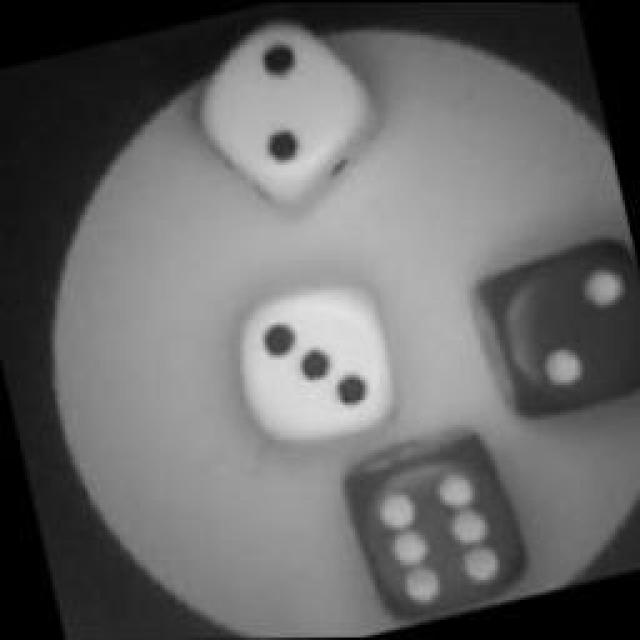dice_2: (184, 0, 388, 210), (470, 228, 640, 428)
dice_3: (222, 272, 412, 462)
dice_6: (342, 431, 528, 621)
